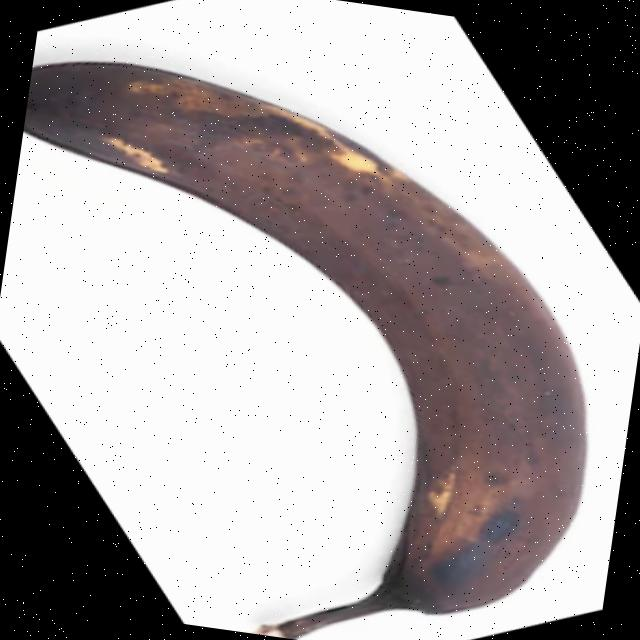Rotten: (0, 49, 632, 640)
